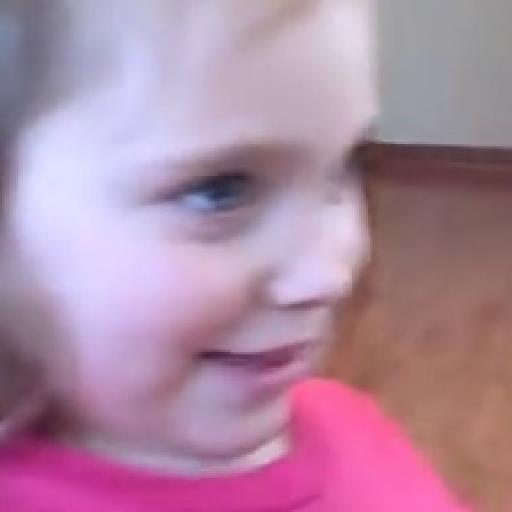Autism: (0, 0, 402, 487)
